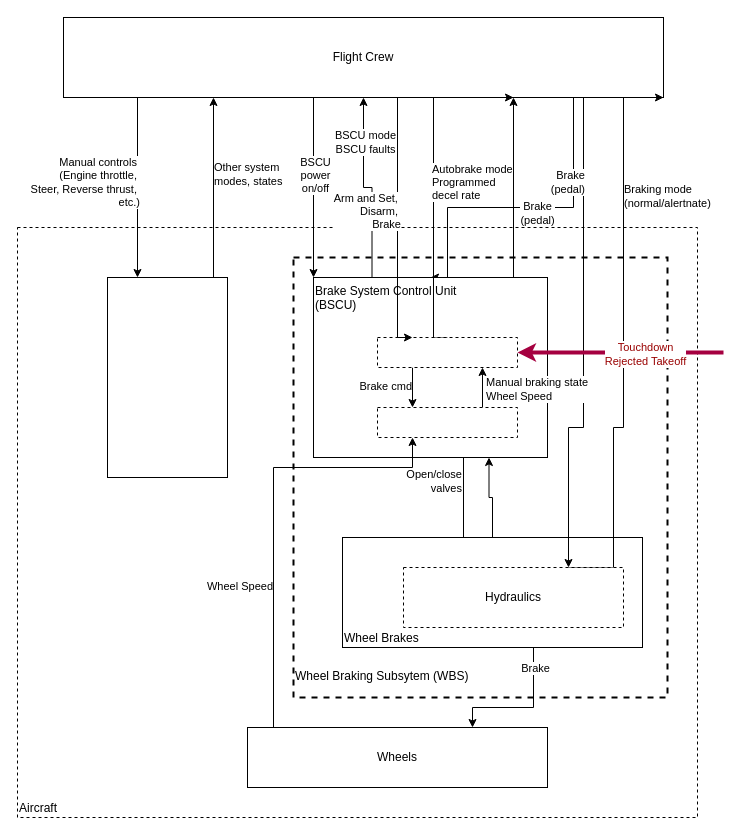
The diagram is 751 pixels wide and 835 high, and some of its shapes have lost their labels. The box of each missing label's shape, as (x1, y1, x2, y2) in pixels:
Autobrake Controller: (376, 336, 518, 368)
Hydraulic Controller: (376, 406, 518, 438)
Other subsystems: (106, 276, 228, 478)
